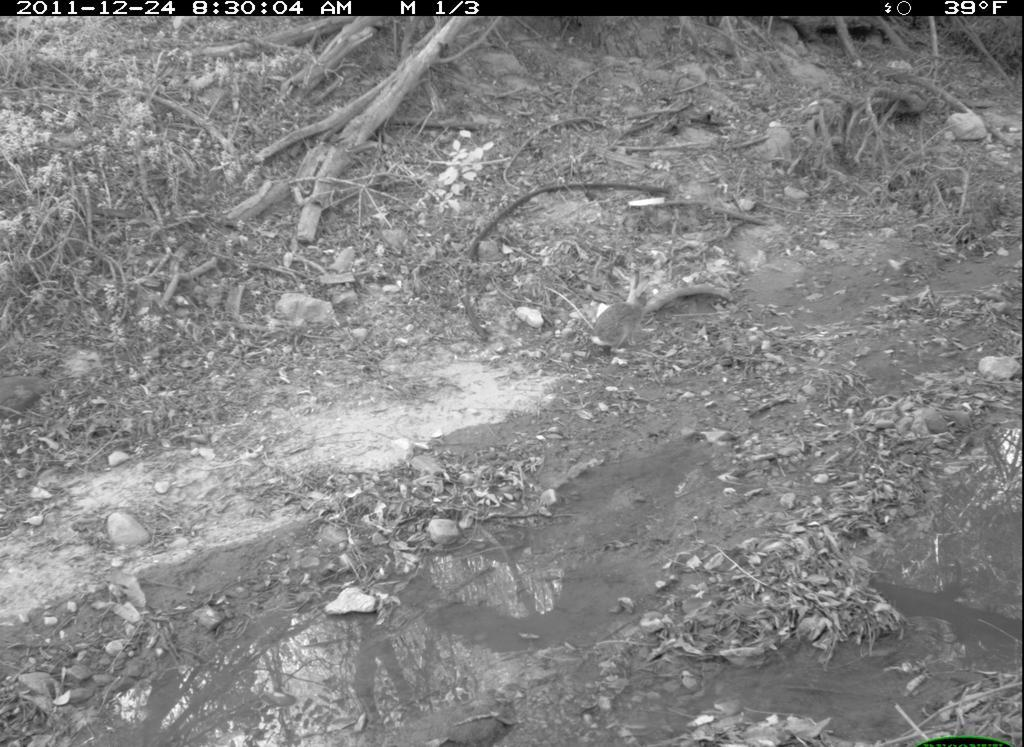rabbit: (585, 274, 656, 360)
